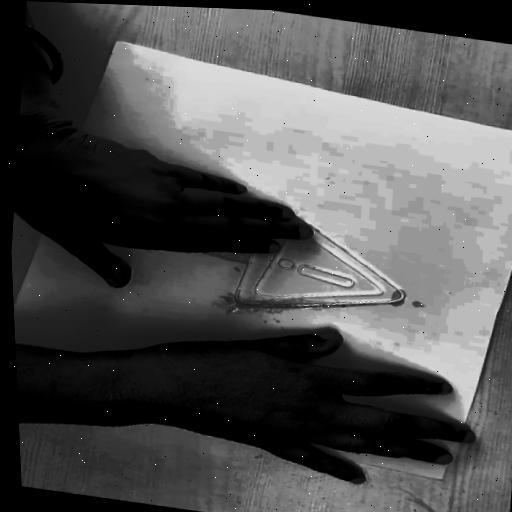bottom_left: (109, 36, 132, 50)
signboard: (135, 175, 423, 349)
top_right: (436, 473, 455, 486)
